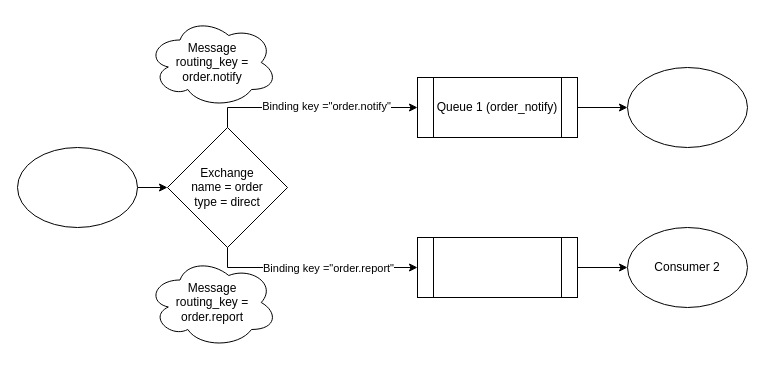
The diagram is 765 pixels wide and 365 high, and some of its shapes have lost their labels. The centre of each missing label's shape, as x and y in pixels:
Consumer 1: the point at 687,107
Publisher: the point at 77,187
Queue 2 (order_report): the point at 497,267
